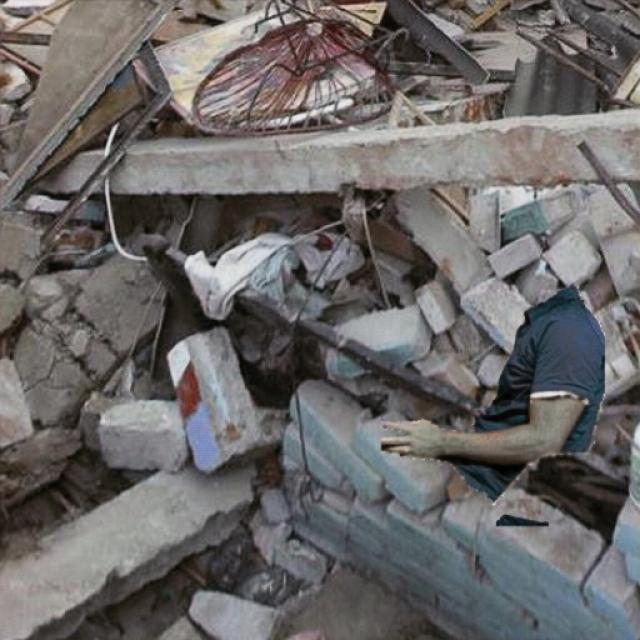Person in Rubble: (381, 286, 604, 525)
